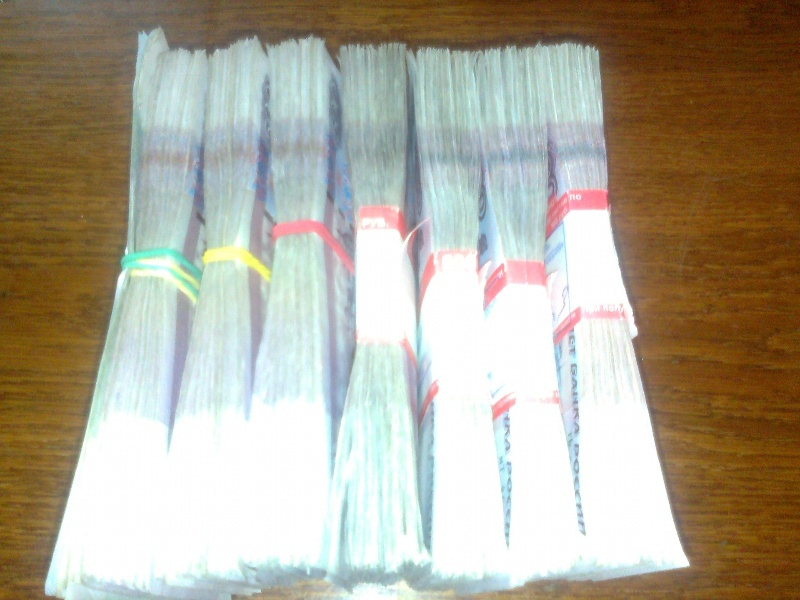cash: (45, 27, 691, 600)
